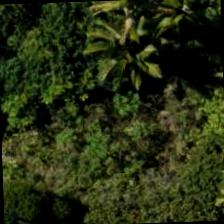Kelapa_Sawit: (79, 0, 173, 92)
